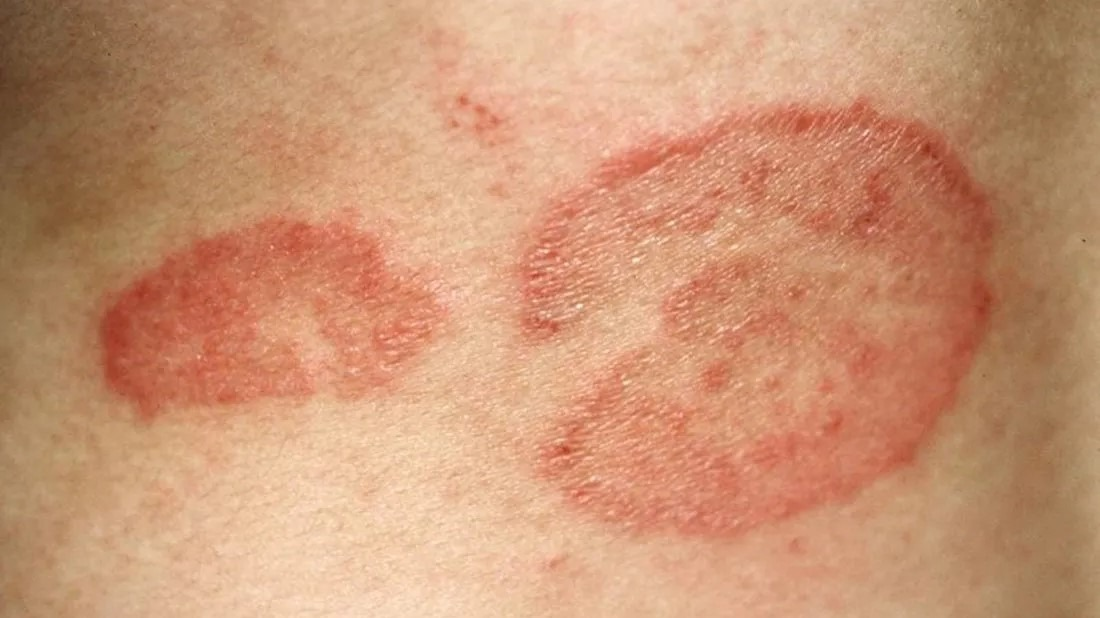Ringworm: (498, 80, 1012, 553), (80, 202, 472, 430)
